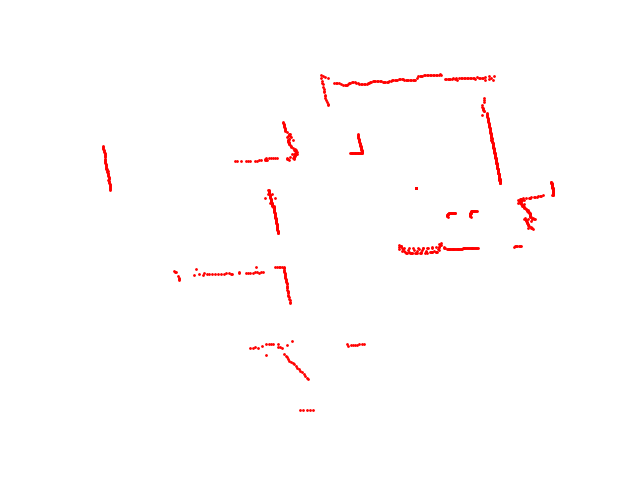person: (444, 207, 481, 223)
